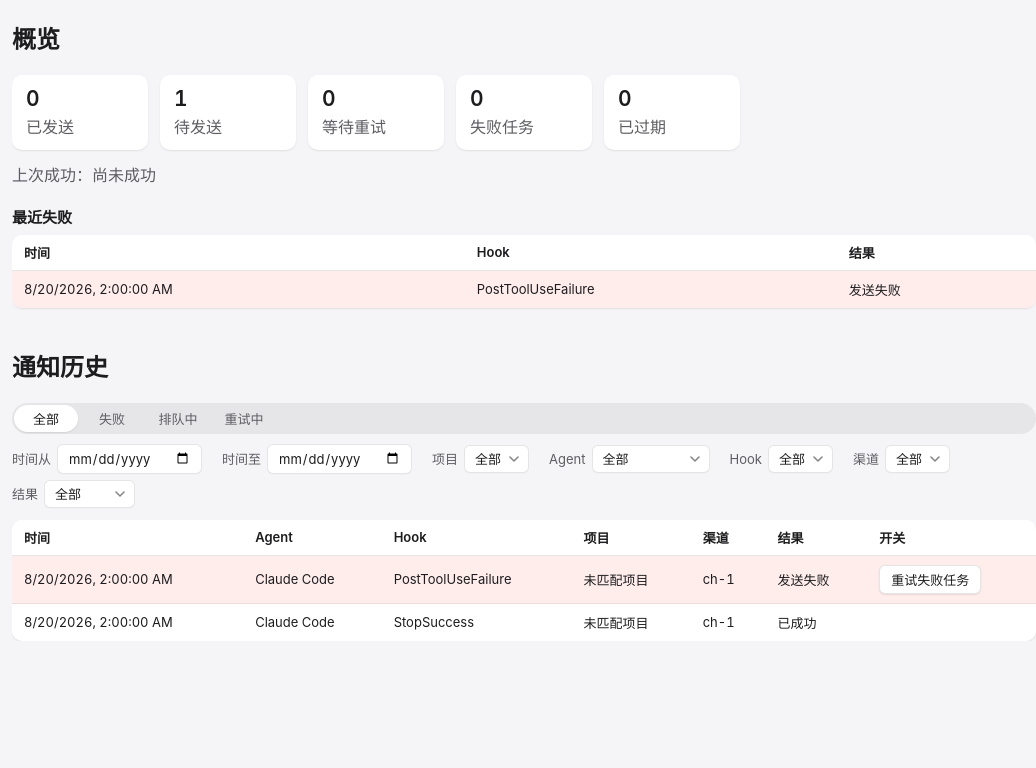
Test: 失败 preset refilters the log pane and keeps both sections present
The image size is (1036, 768).
Click the button "失败" at (112, 418), box x1=80 y1=405 x2=144 y2=432
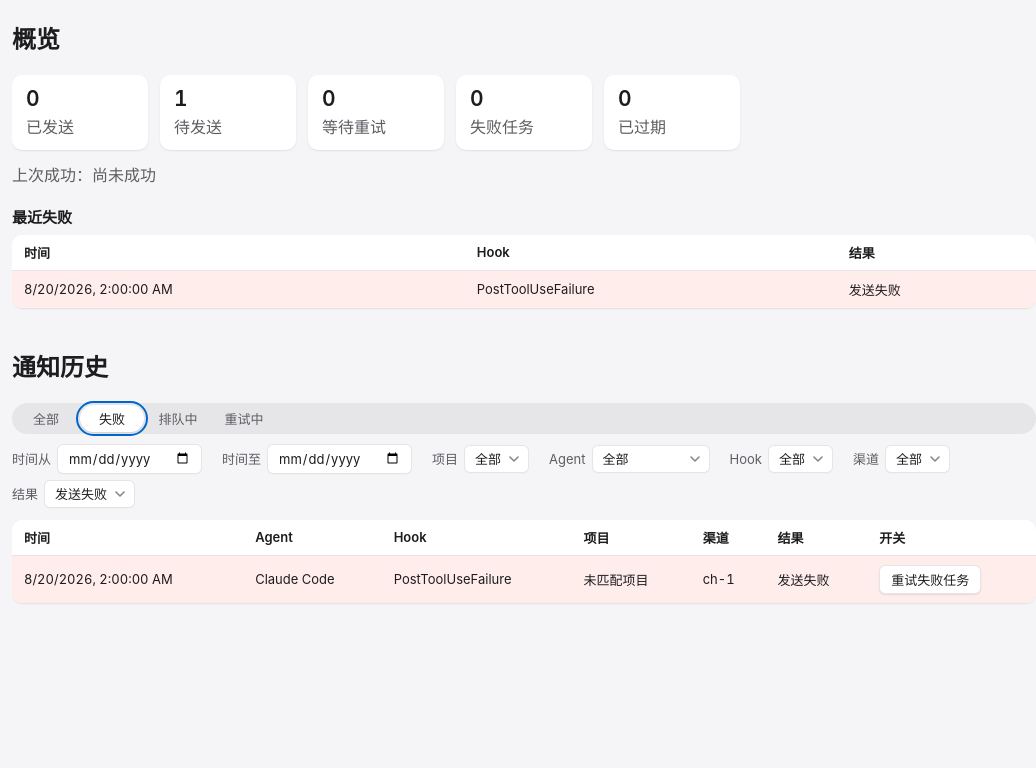
Check: the text "PostToolUseFailure" below "待发送" is shown, box x1=477 y1=282 x2=595 y2=298
Check: the text "StopSuccess" is gone
